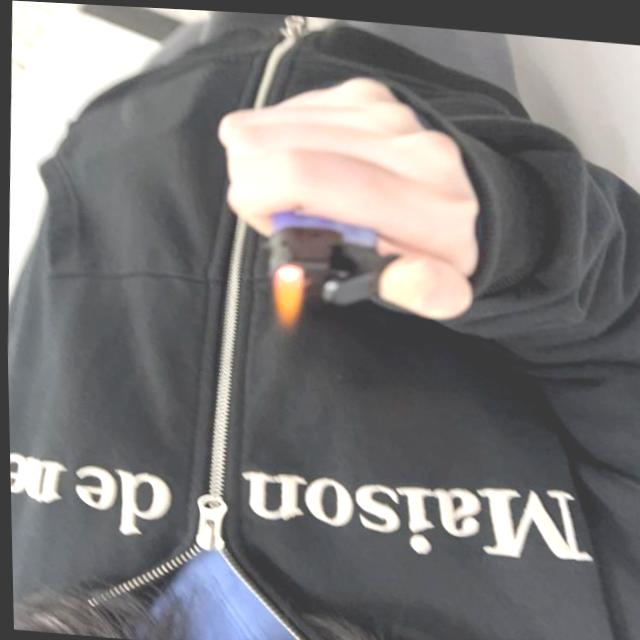helmet: (270, 259, 305, 333)
